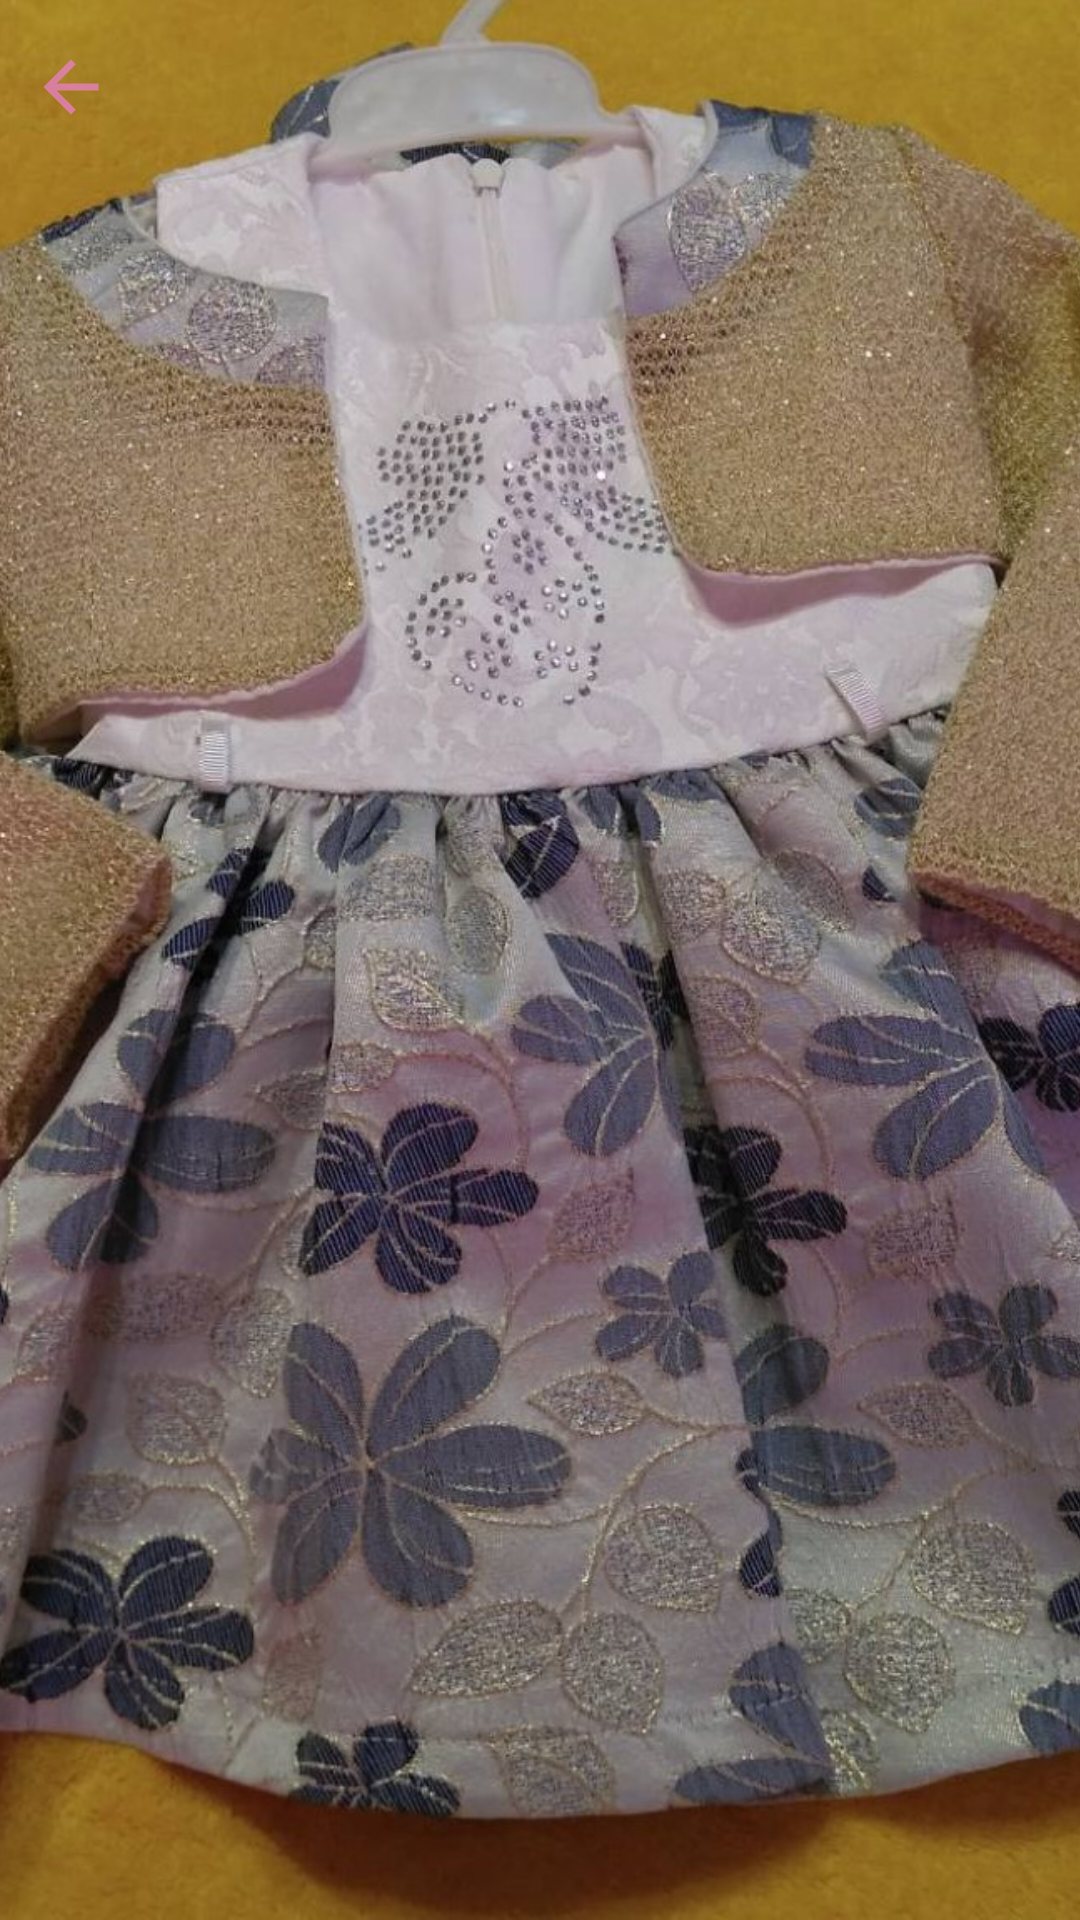

Point at icon controls on the screen. Image size 1080px×1920px, points as (x,y).
arrow back: (71,87)
